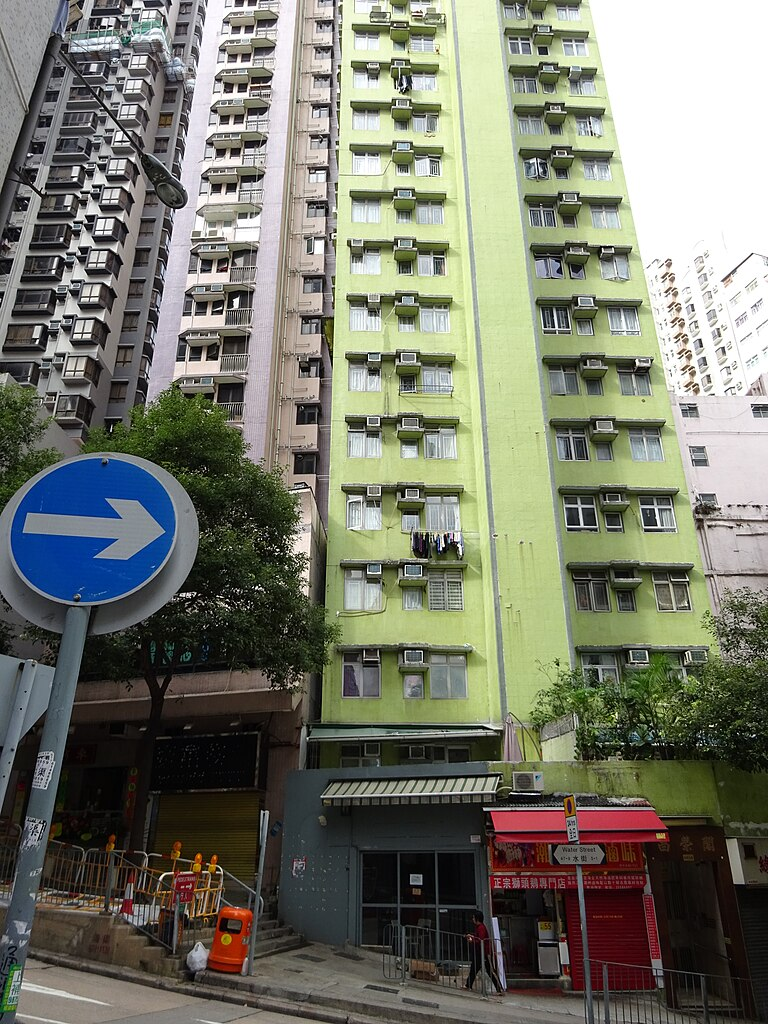Turn Right: (9, 450, 182, 610)
